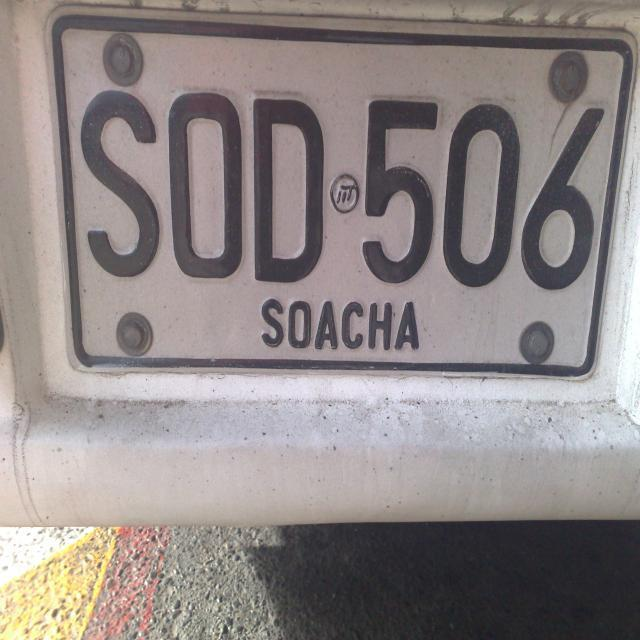placa: (41, 2, 637, 386)
